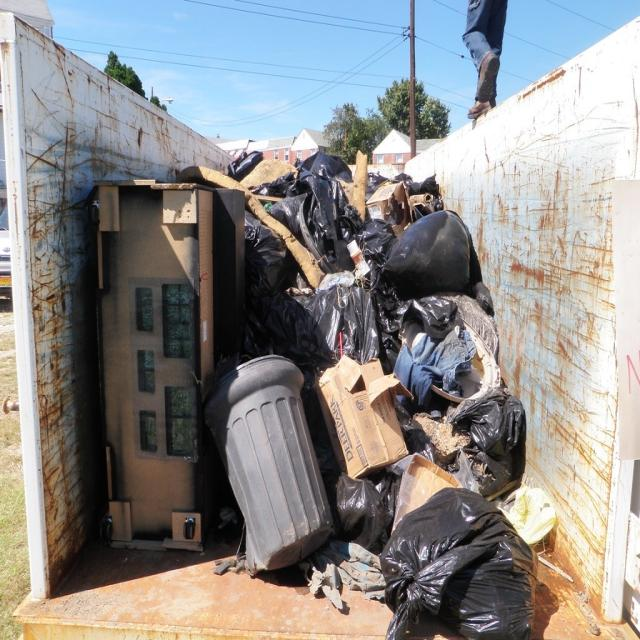Plastics: (225, 360, 346, 589)
